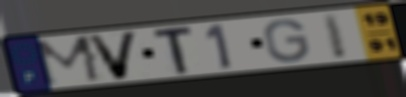1: (202, 22, 235, 71)
G: (262, 18, 312, 64)
I: (320, 12, 350, 61)
M: (32, 33, 105, 88)
T: (152, 24, 196, 76)
V: (83, 30, 141, 82)
